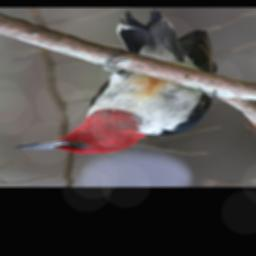Woodpecker: (13, 8, 217, 155)
